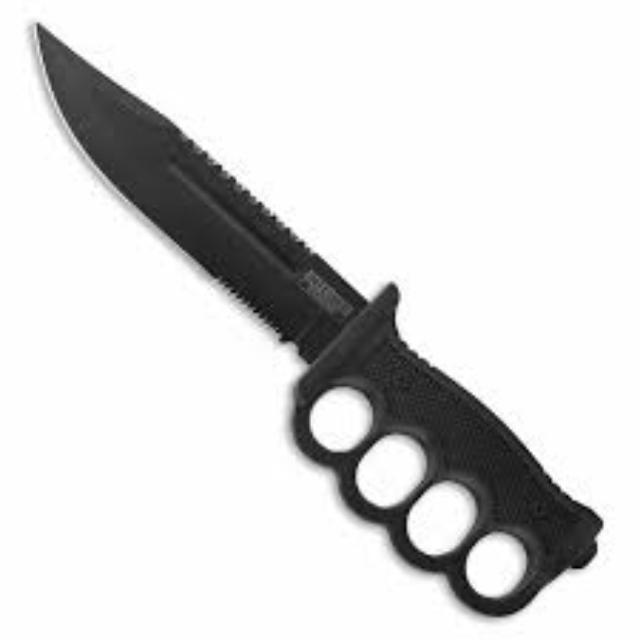Knife: (29, 20, 603, 618)
